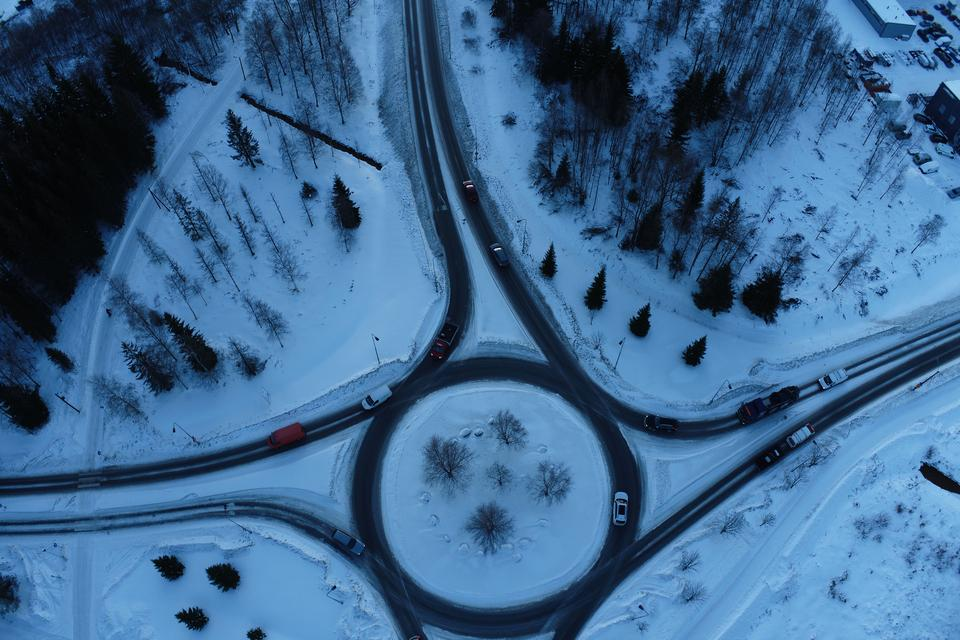intersection: (57, 453, 116, 554)
roundabout: (296, 319, 685, 640)
